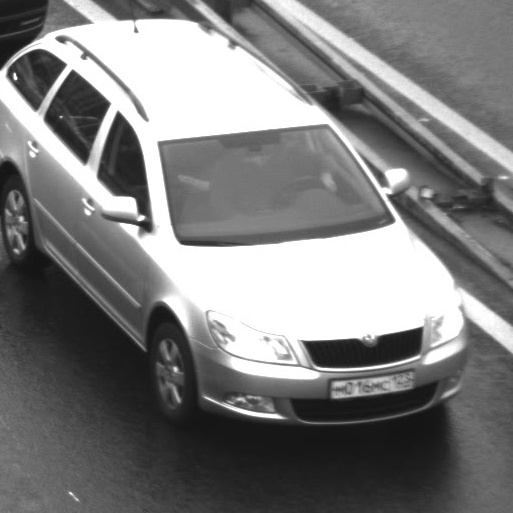plate: (323, 364, 420, 406)
